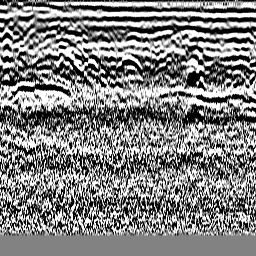cavity: (114, 54, 142, 75)
